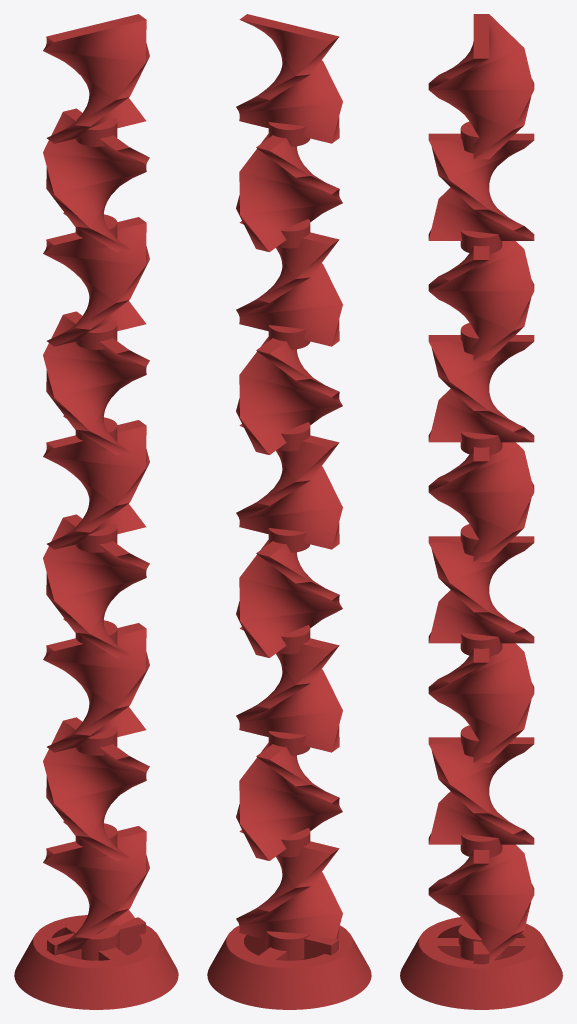
Rendered from mixer_part4_helical_core.glb.
The picture shows the model from 3 angles, left to right: view 1: azimuth 30°, elevation 25°; view 2: azimuth 150°, elevation 25°; view 3: azimuth 270°, elevation 25°; orthographic projection.
Parts seen in each view (by area): view 1: mixer_part4_helical_core; view 2: mixer_part4_helical_core; view 3: mixer_part4_helical_core.
Boxes of the visible parts, x1=… form: mixer_part4_helical_core: x1=14, y1=14, x2=178, y2=1009; mixer_part4_helical_core: x1=207, y1=14, x2=371, y2=1009; mixer_part4_helical_core: x1=400, y1=14, x2=562, y2=1009.
Size of the model in its own units: 0.0044 by 0.028 by 0.0044.
